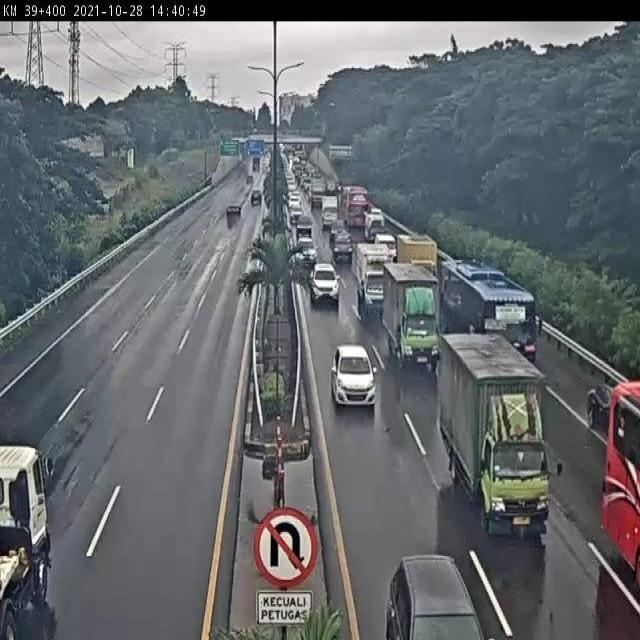big truck: (0, 442, 52, 640)
bus-l-: (440, 257, 539, 375)
car: (330, 347, 379, 409), (585, 377, 622, 428), (308, 260, 341, 301)
truck-m-: (437, 333, 552, 538), (383, 261, 441, 367), (354, 243, 392, 312)
